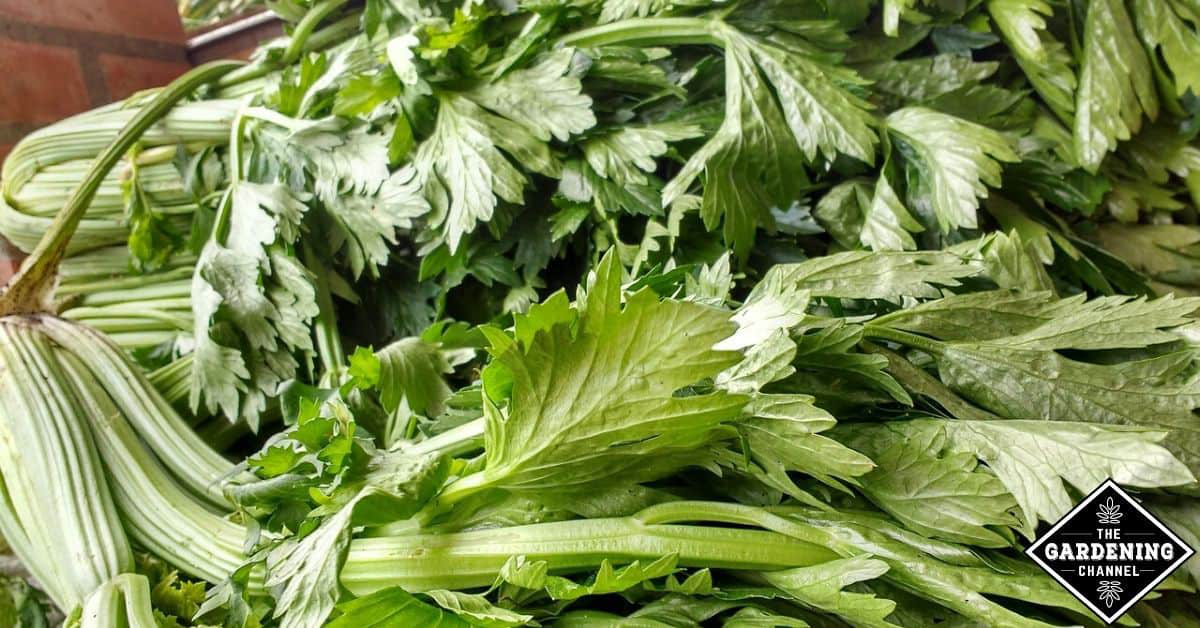Seledri: (178, 44, 988, 572)
